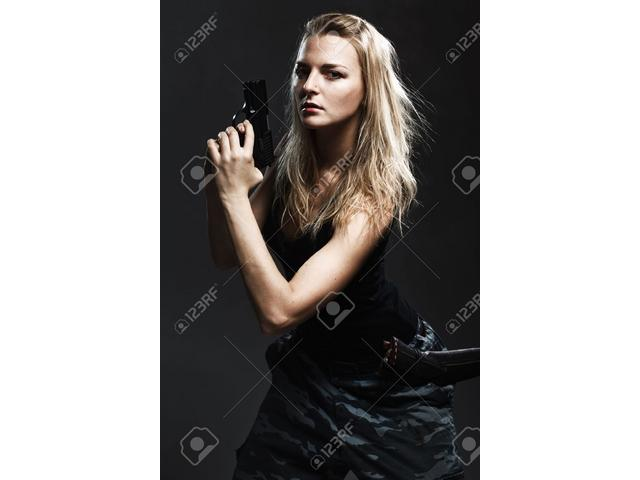pistol: (209, 77, 275, 170)
